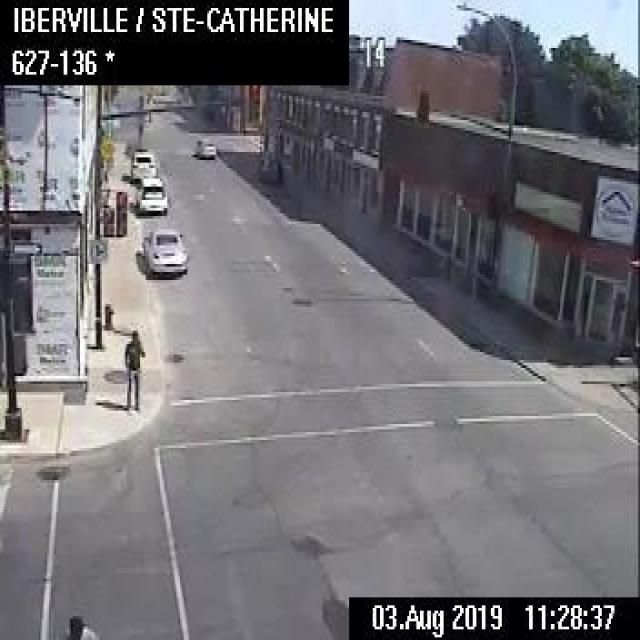pedestrian: (120, 328, 145, 413), (62, 611, 102, 637)
vehicle: (140, 227, 187, 276), (135, 175, 166, 212), (129, 147, 156, 182), (256, 153, 281, 182), (194, 136, 215, 157)
